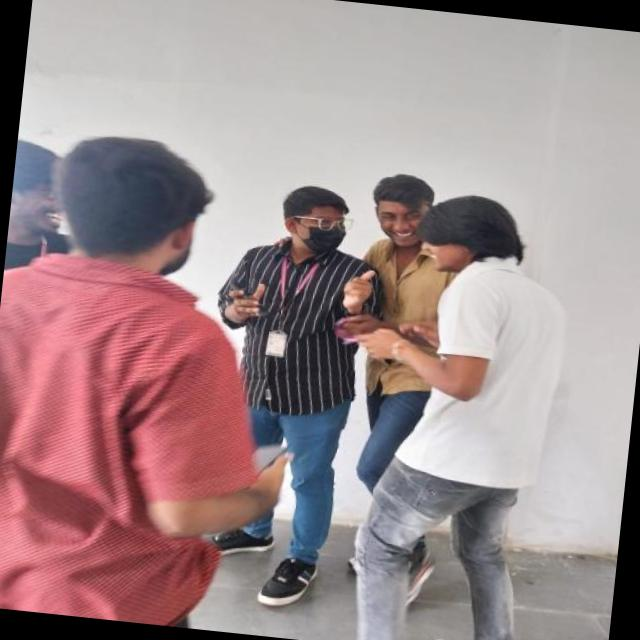id_card: (262, 250, 314, 364)
